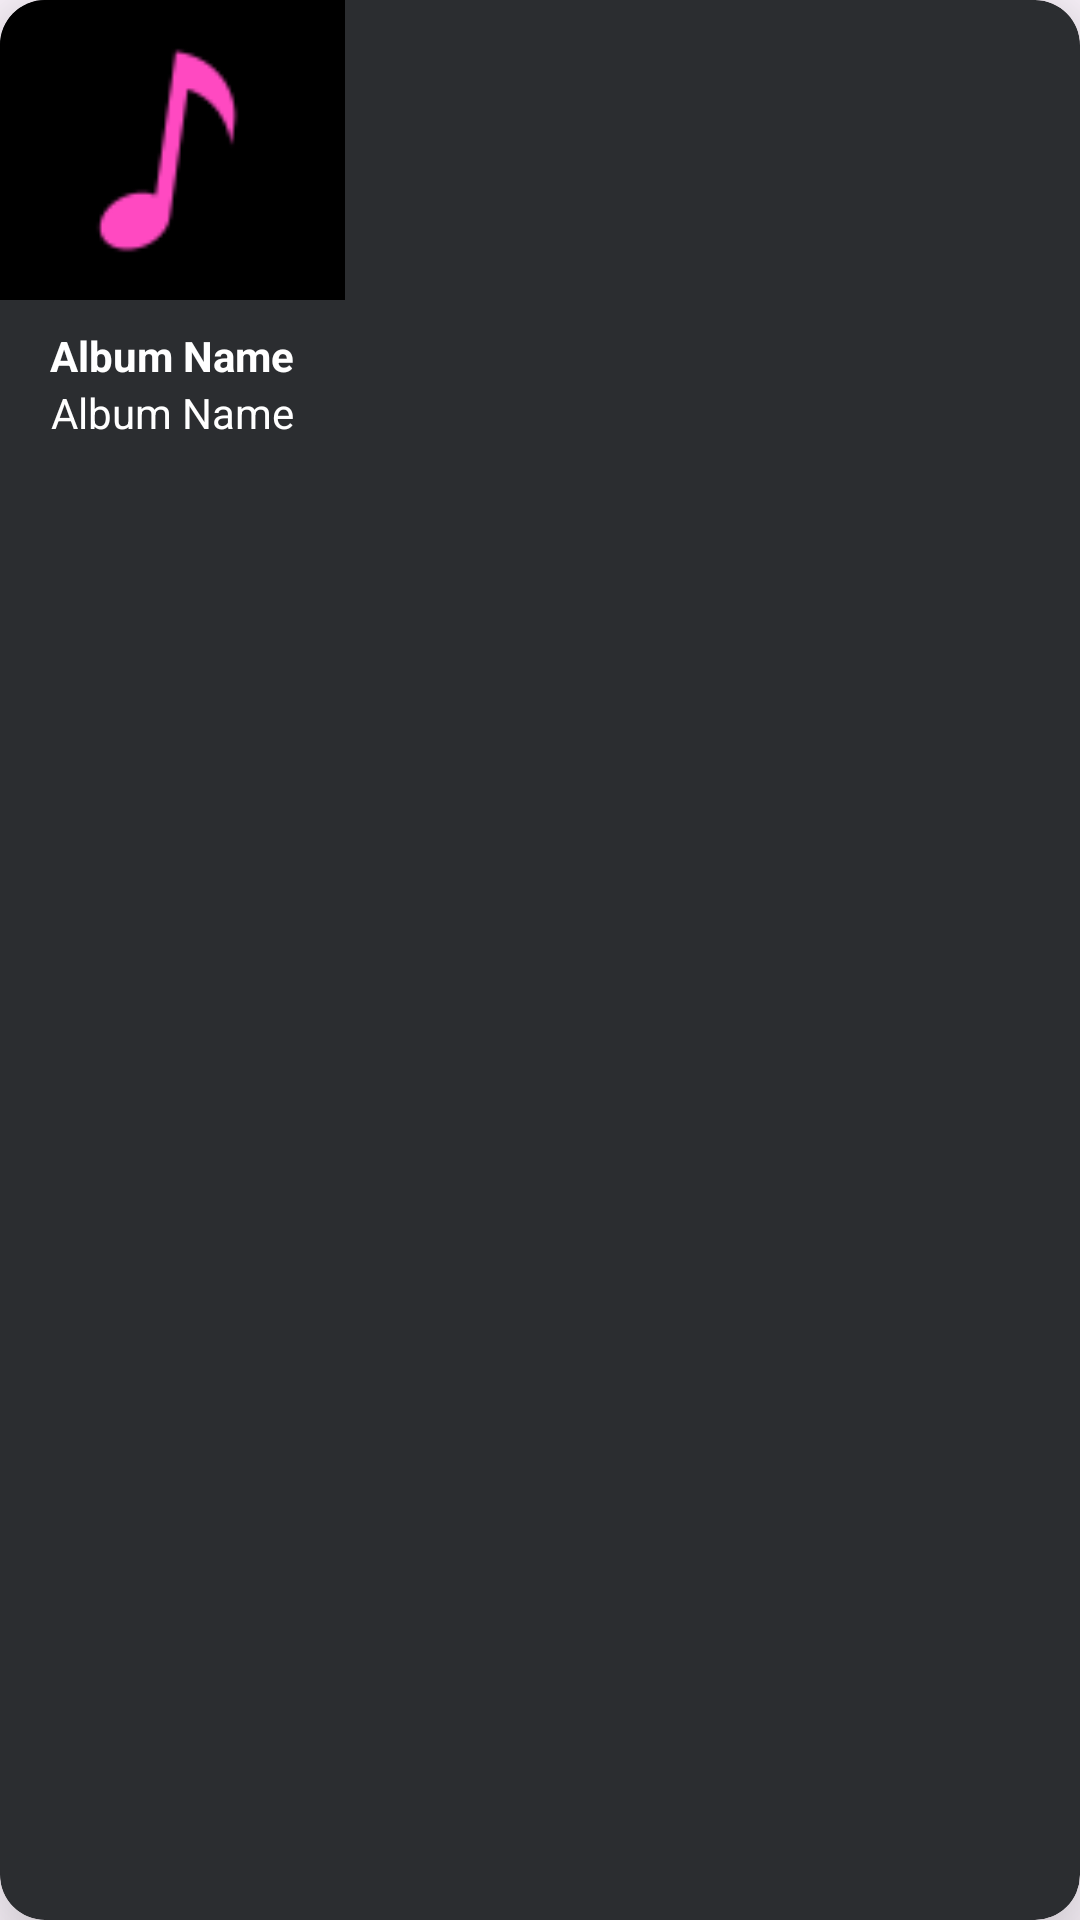

Icons on this 1080w x 1920h Android screen, each with the point to tap as (x=x, y=y):
musical notes: (x=172, y=150)
